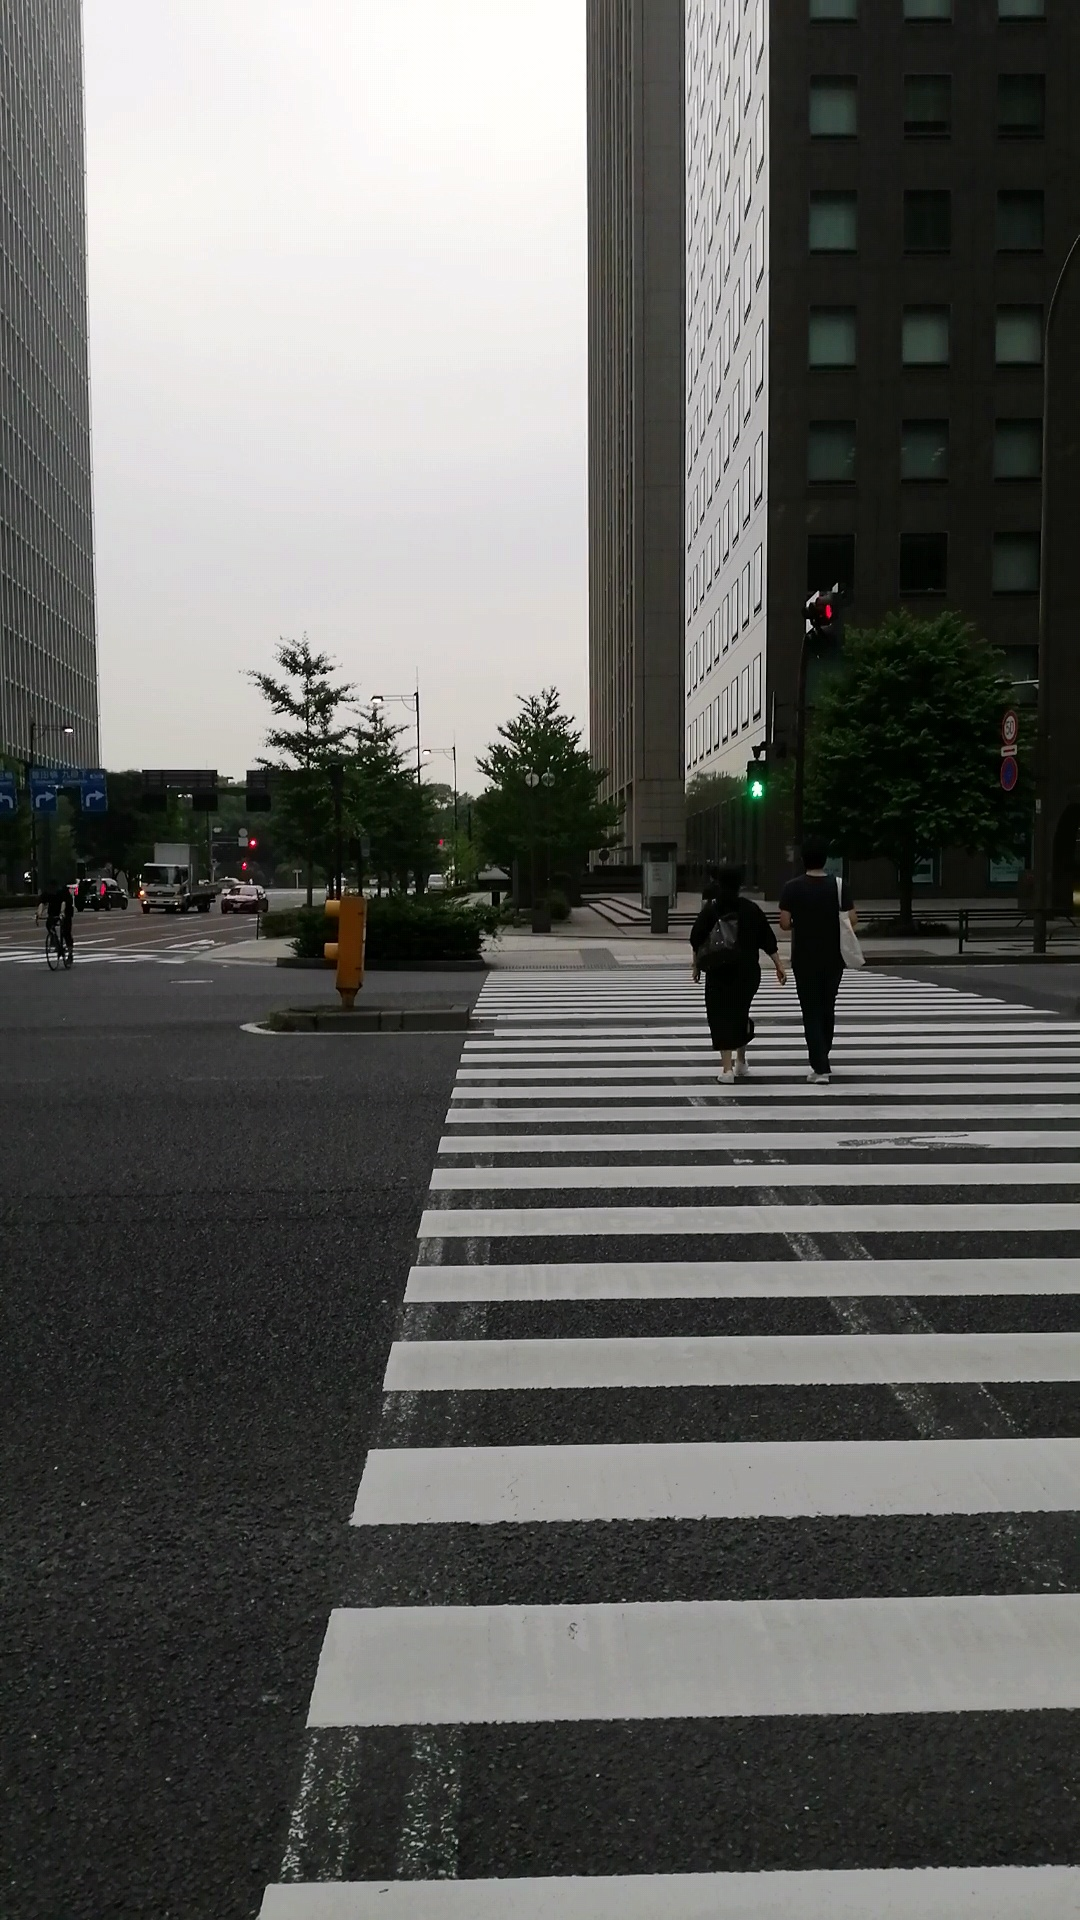green: (745, 760, 770, 802)
